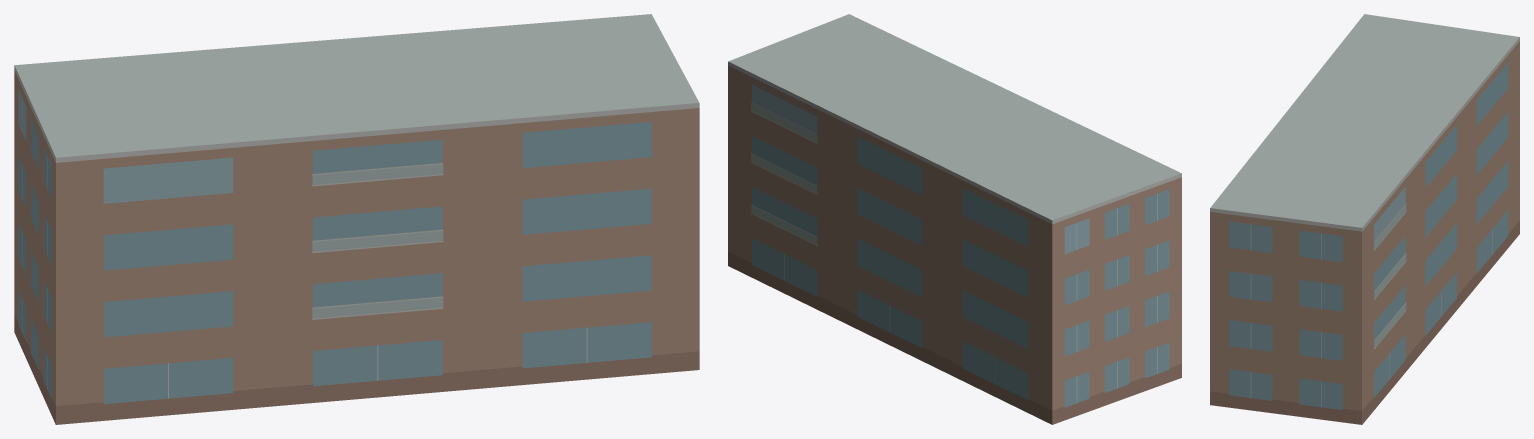
Rendered from survey-upis-32847970.glb.
3 views of the same model, side by side, from view 1: azimuth 30°, elevation 25°; view 2: azimuth 150°, elevation 25°; view 3: azimuth 270°, elevation 25° (orthographic). The views are drawn at different scales.
Parts seen in each view (by area): view 1: survey-upis-32847970.tmp; view 2: survey-upis-32847970.tmp; view 3: survey-upis-32847970.tmp.
Part boxes in pixels (<box>): survey-upis-32847970.tmp: <box>14,14,699,424</box>; survey-upis-32847970.tmp: <box>728,14,1181,424</box>; survey-upis-32847970.tmp: <box>1210,14,1519,424</box>.
Size of the model in its own units: 29.86 by 12.82 by 18.28.
